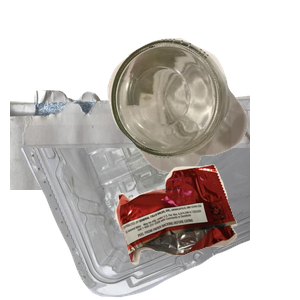glass: (105, 36, 300, 201)
paper: (10, 84, 250, 264)
plastic: (19, 148, 259, 300)
trash: (113, 162, 300, 300)
